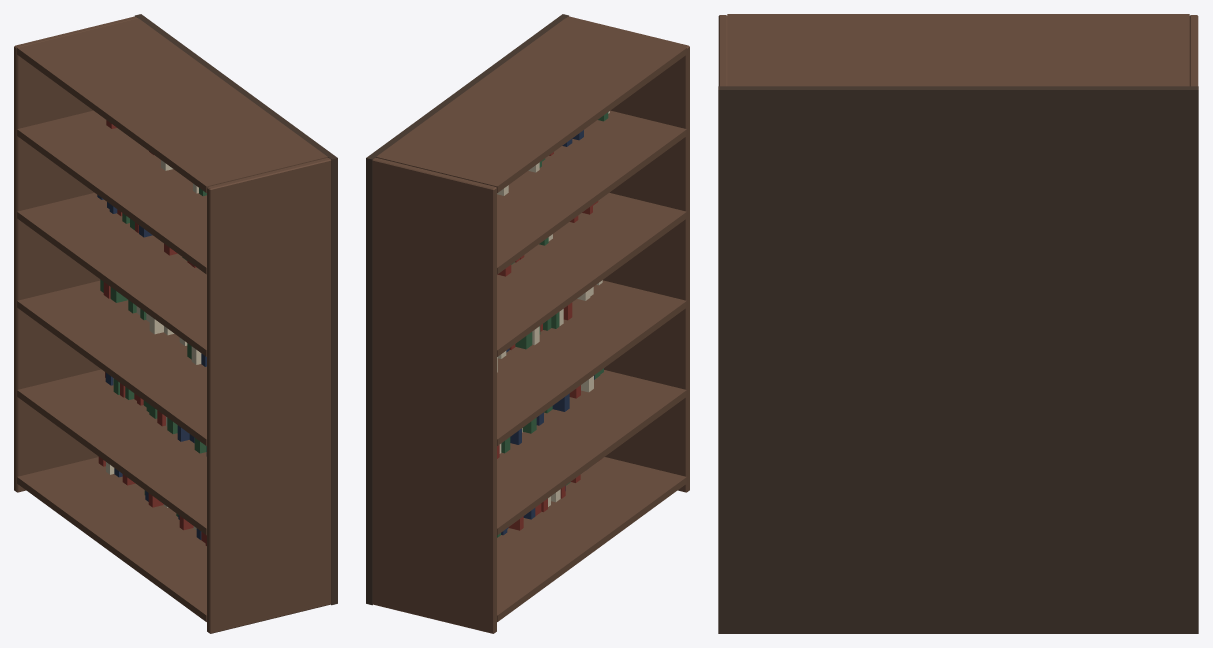
The model's file is bookshelf.glb.
3 renders of one model, left to right at view 1: azimuth 30°, elevation 25°; view 2: azimuth 150°, elevation 25°; view 3: azimuth 270°, elevation 25°, orthographic. The views are drawn at different scales.
Visible parts, largest first — view 1: bookshelf; view 2: bookshelf; view 3: bookshelf.
Boxes of the visible parts, left/top/right/bottom form: bookshelf: left=14, top=14, right=337, bottom=633; bookshelf: left=366, top=14, right=689, bottom=633; bookshelf: left=718, top=14, right=1198, bottom=633.
Bounding box in the file's own units: 0.6 × 2 × 1.6.
